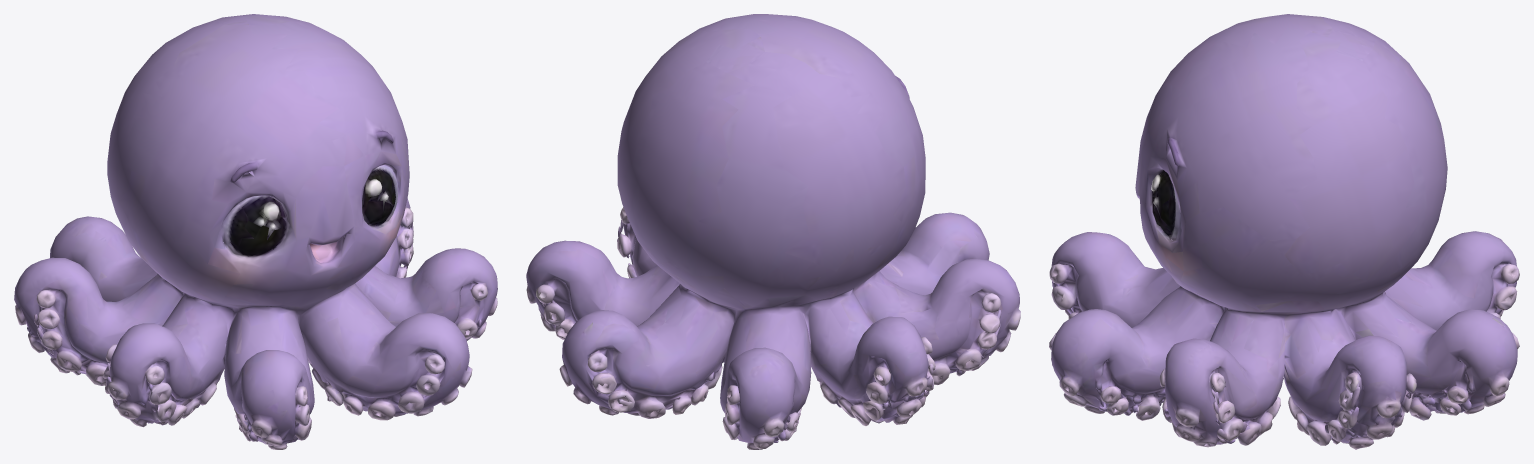
3 views of the same model, side by side, from view 1: azimuth 30°, elevation 25°; view 2: azimuth 150°, elevation 25°; view 3: azimuth 270°, elevation 25° (orthographic). The views are drawn at different scales.
Bounding box in the file's own units: 1.9 × 1.58 × 1.9.
Materials: 1 (1 with a texture image).
